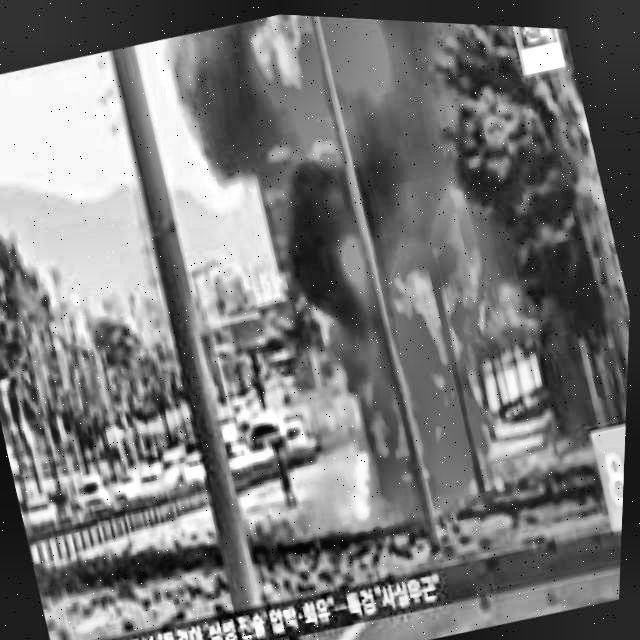Fire: (296, 215, 547, 535), (252, 10, 381, 126)
